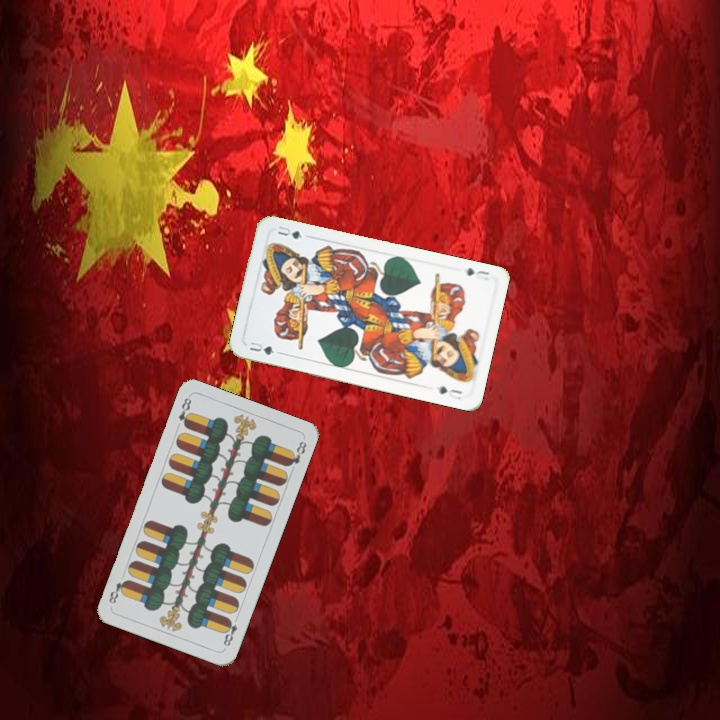E8: (219, 612, 241, 651), (174, 393, 194, 430)
GU: (246, 338, 277, 358), (462, 264, 492, 283)
